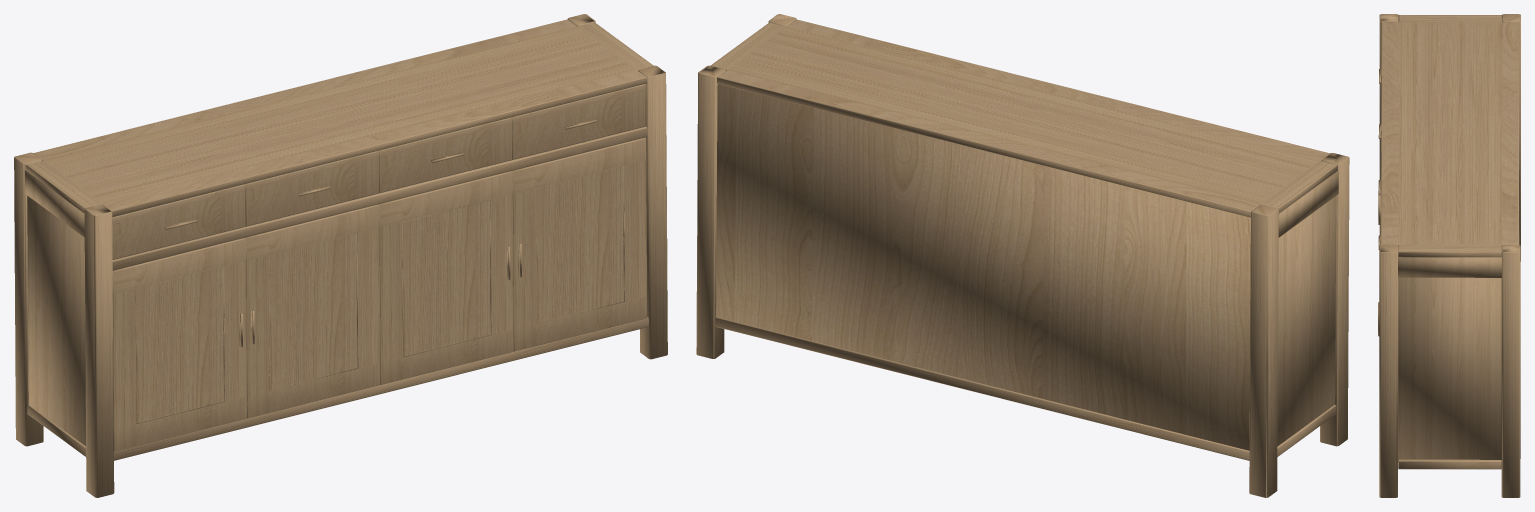
Rendered from cupboard.obj.
3 renders of one model, left to right at view 1: azimuth 30°, elevation 25°; view 2: azimuth 150°, elevation 25°; view 3: azimuth 270°, elevation 25°, orthographic. The views are drawn at different scales.
Parts seen in each view (by area): view 1: Platten_Platte_unten_2, T_ren_W_rfel_11, T_ren_W_rfel_0, T_ren_W_rfel_22, T_ren_W_rfel, Seiten_W_rfel_2, Beine_W_rfel1, Beine_W_rfel2, Platten_Platte_unten_4, Platten_Platte_unten, Schubladen_W_rfel_1_0, Schubladen_W_rfel_1_2 (+4 smaller); view 2: Seiten_R_ckseite, Platten_Platte_unten_2, Seiten_W_rfel_2, Beine_W_rfel_23, Platten_Platte_unten, Beine_W_rfel_12, Beine_W_rfel1, Seiten_W_rfel_21; view 3: Platten_Platte_unten_2, Seiten_W_rfel_3, Beine_W_rfel_12, Beine_W_rfel2, Seiten_W_rfel_31, Platten_Platte_unten, Beine_W_rfel_23, Beine_W_rfel1.
Boxes of the visible parts, <box> form: Platten_Platte_unten_2: <box>25,19,653,217</box>; T_ren_W_rfel_11: <box>379,171,513,384</box>; T_ren_W_rfel_0: <box>245,204,380,418</box>; T_ren_W_rfel_22: <box>512,137,647,351</box>; T_ren_W_rfel: <box>112,238,247,451</box>; Seiten_W_rfel_2: <box>27,196,85,445</box>; Beine_W_rfel1: <box>84,204,114,497</box>; Beine_W_rfel2: <box>638,65,667,359</box>; Platten_Platte_unten_4: <box>112,126,647,270</box>; Platten_Platte_unten: <box>27,317,648,460</box>; Schubladen_W_rfel_1_0: <box>245,150,379,226</box>; Schubladen_W_rfel_1_2: <box>512,84,645,159</box>; Seiten_R_ckseite: <box>716,84,1250,450</box>; Platten_Platte_unten_2: <box>710,19,1337,217</box>; Seiten_W_rfel_2: <box>1277,196,1336,446</box>; Beine_W_rfel_23: <box>1249,204,1278,497</box>; Platten_Platte_unten: <box>715,317,1336,460</box>; Beine_W_rfel_12: <box>696,65,725,358</box>; Beine_W_rfel1: <box>1320,153,1349,446</box>; Seiten_W_rfel_21: <box>1278,170,1338,237</box>; Platten_Platte_unten_2: <box>1381,15,1519,257</box>; Seiten_W_rfel_3: <box>1398,277,1501,459</box>; Beine_W_rfel_12: <box>1501,245,1520,497</box>; Beine_W_rfel2: <box>1379,244,1398,497</box>; Seiten_W_rfel_31: <box>1398,257,1501,277</box>; Platten_Platte_unten: <box>1398,232,1519,469</box>; Beine_W_rfel_23: <box>1502,14,1520,261</box>; Beine_W_rfel1: <box>1379,14,1398,235</box>.
Size of the model in its own units: 183 by 87.4 by 45.55.
